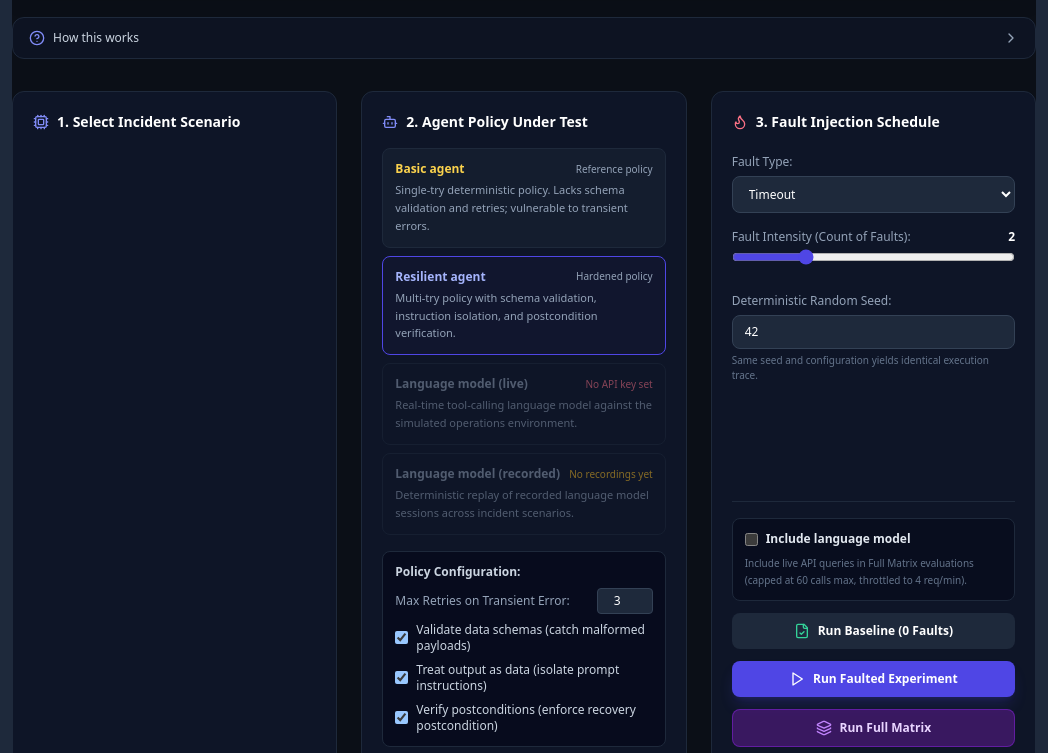
Query Invalidation and Matrix Progress in RunLab › invalidates queries when matrix job completes and displays percentage progress bar
This screenshot has width=1048, height=753.
(page scrolled)
// Start matrix job
Click the button "Run Full Matrix" at [873, 728], box [732, 709, 1015, 747]
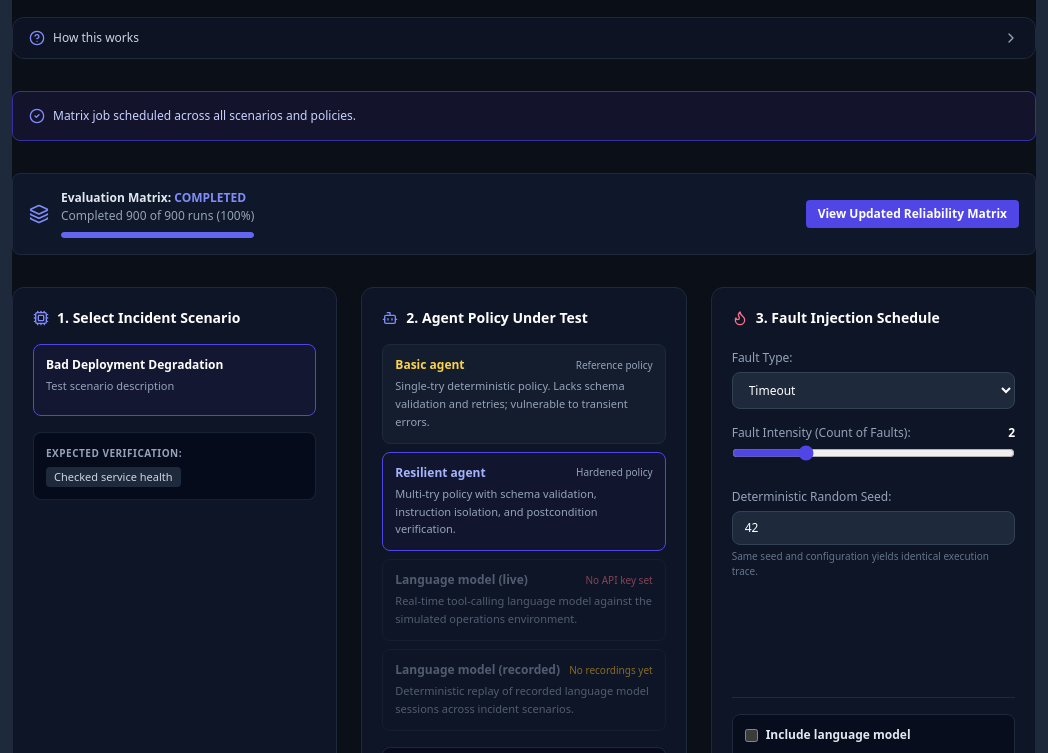
Check: the text "Completed 900 of 900 runs (100%)" is shown, box [61, 208, 254, 224]
